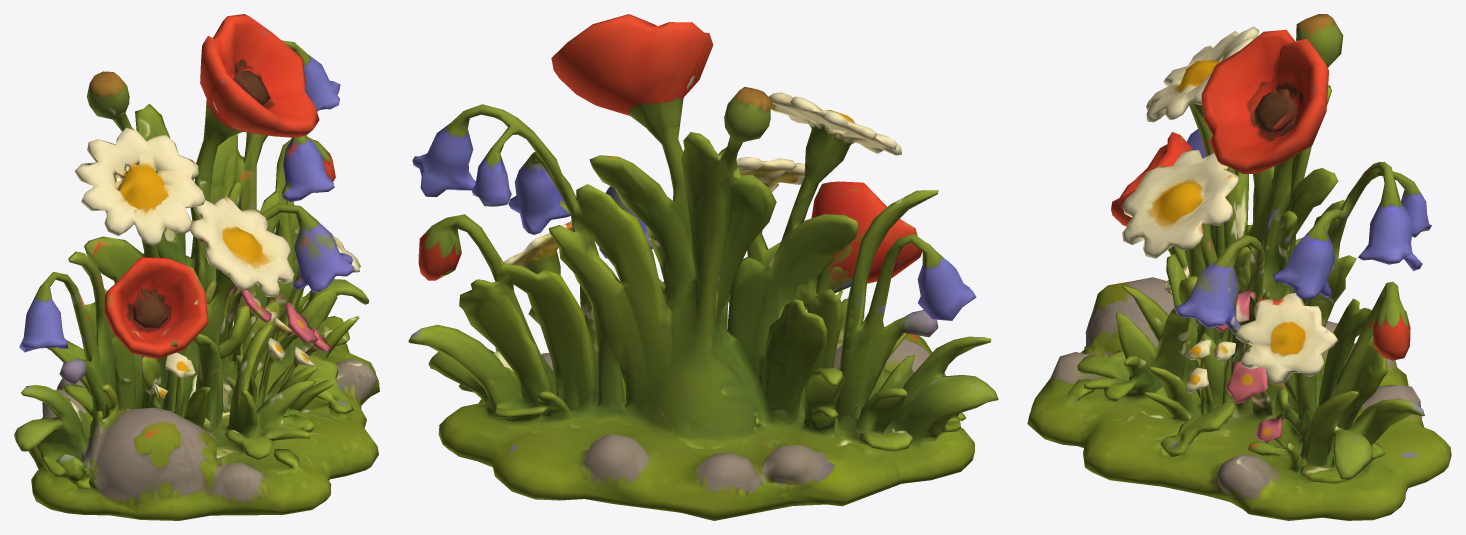
3 views of the same model, side by side, from view 1: azimuth 30°, elevation 25°; view 2: azimuth 150°, elevation 25°; view 3: azimuth 270°, elevation 25° (orthographic). The views are drawn at different scales.
Visible parts, largest first — view 1: wildflowers; view 2: wildflowers; view 3: wildflowers.
Part boxes in pixels (bbox=[...]): wildflowers: bbox=[14, 14, 379, 520]; wildflowers: bbox=[408, 14, 998, 520]; wildflowers: bbox=[1027, 14, 1451, 520].
Size of the model in its own units: 0.5733 by 0.5 by 0.4636.
Materials: 1 (1 with a texture image).
